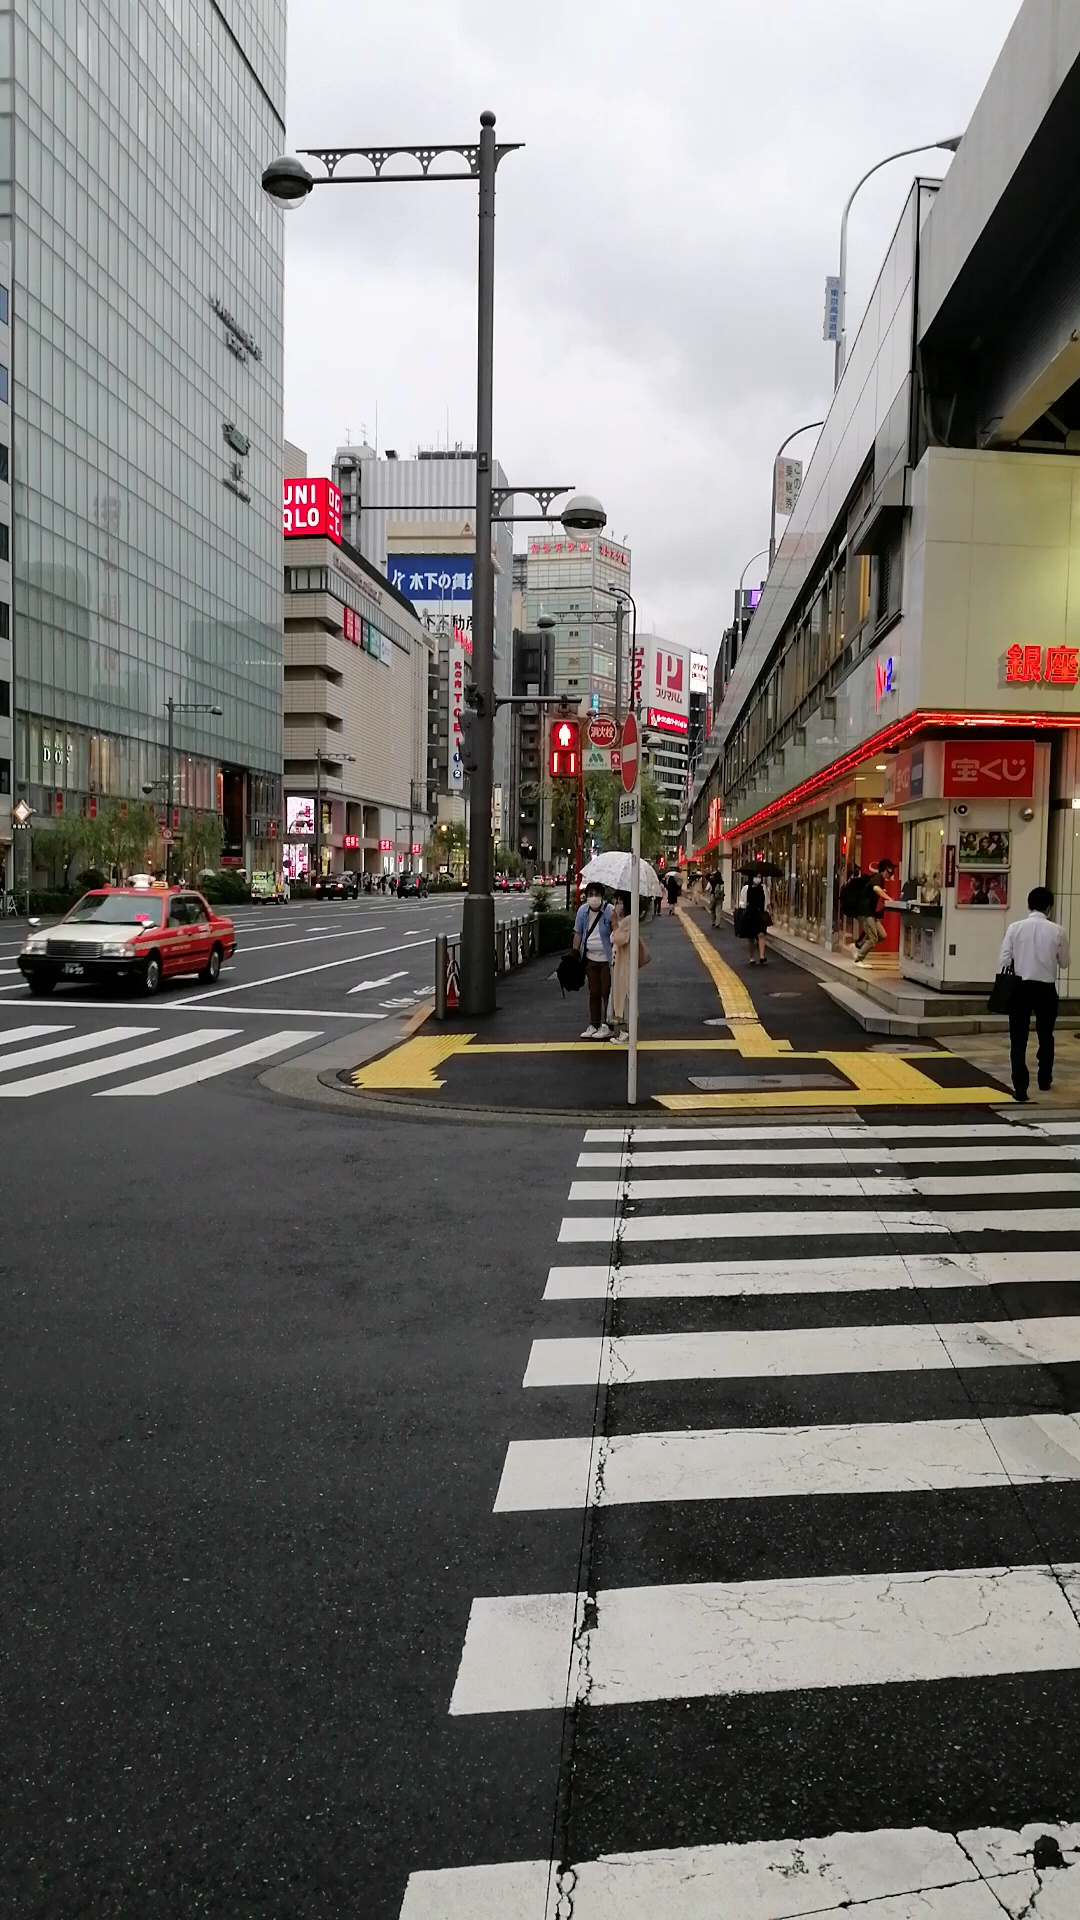red: (547, 717, 582, 781)
